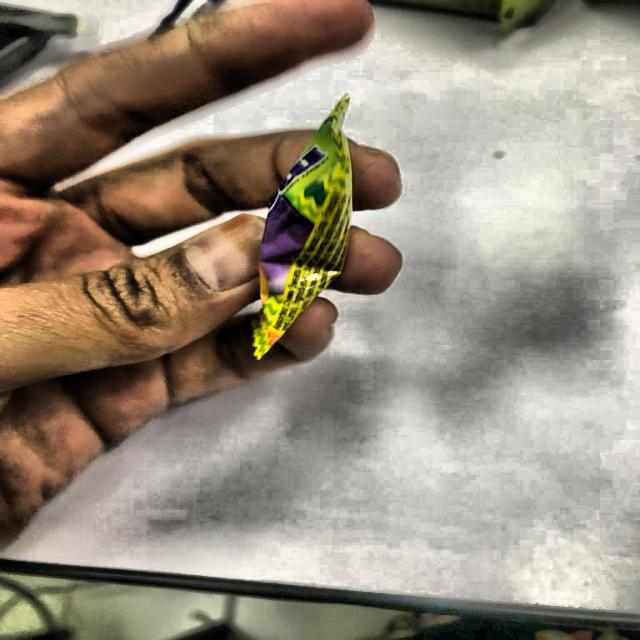Plastic: (255, 94, 357, 366)
